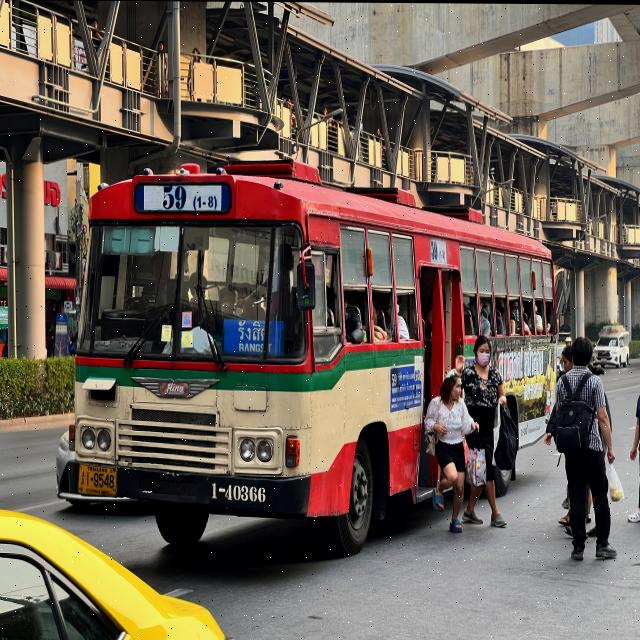BMTA-bus: (51, 141, 562, 562)
Bus Line Number: (157, 184, 220, 211)
Bus Side Number: (207, 478, 272, 508)
Destination Sign: (220, 317, 284, 358)
